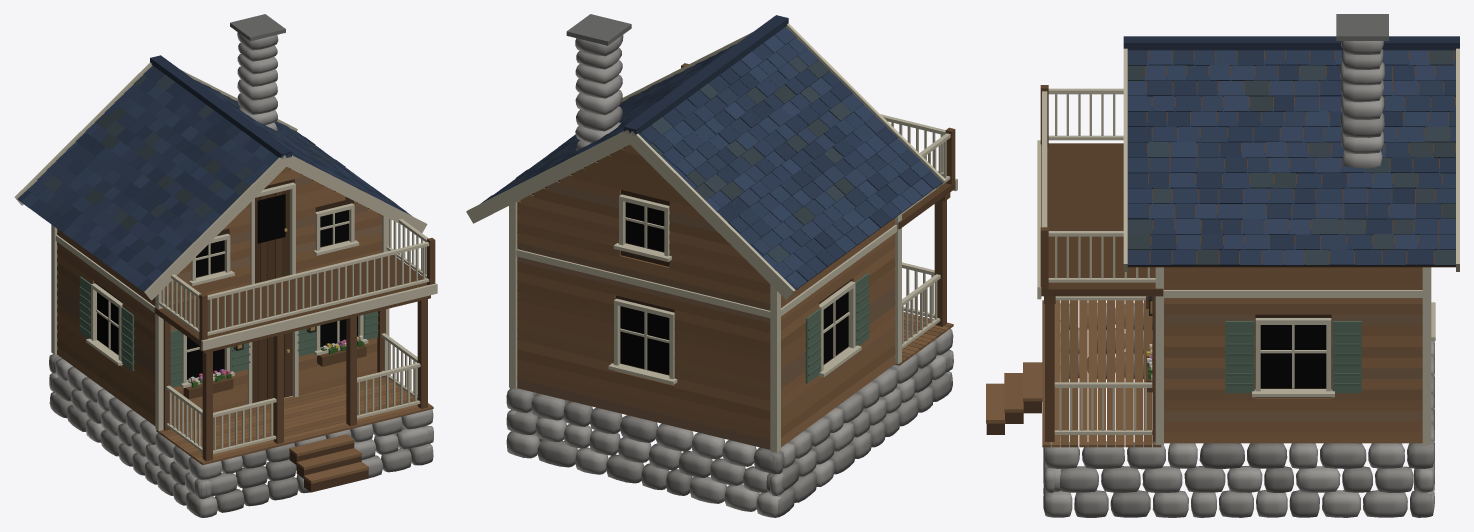
The model's file is cabin.glb.
The picture shows the model from 3 angles, left to right: view 1: azimuth 30°, elevation 25°; view 2: azimuth 150°, elevation 25°; view 3: azimuth 270°, elevation 25°; orthographic projection. The views are drawn at different scales.
Parts seen in each view (by area): view 1: cabin_body, cabin_stone; view 2: cabin_body, cabin_stone; view 3: cabin_body, cabin_stone.
Boxes of the visible parts, box(x1,y1,x2,y2) form: cabin_body: box(14, 14, 437, 492); cabin_stone: box(49, 32, 433, 517); cabin_body: box(466, 14, 957, 452); cabin_stone: box(506, 35, 953, 517); cabin_body: box(986, 14, 1459, 447); cabin_stone: box(1043, 41, 1434, 517).
Bounding box in the file's own units: 6.34 × 7.74 × 7.2.
